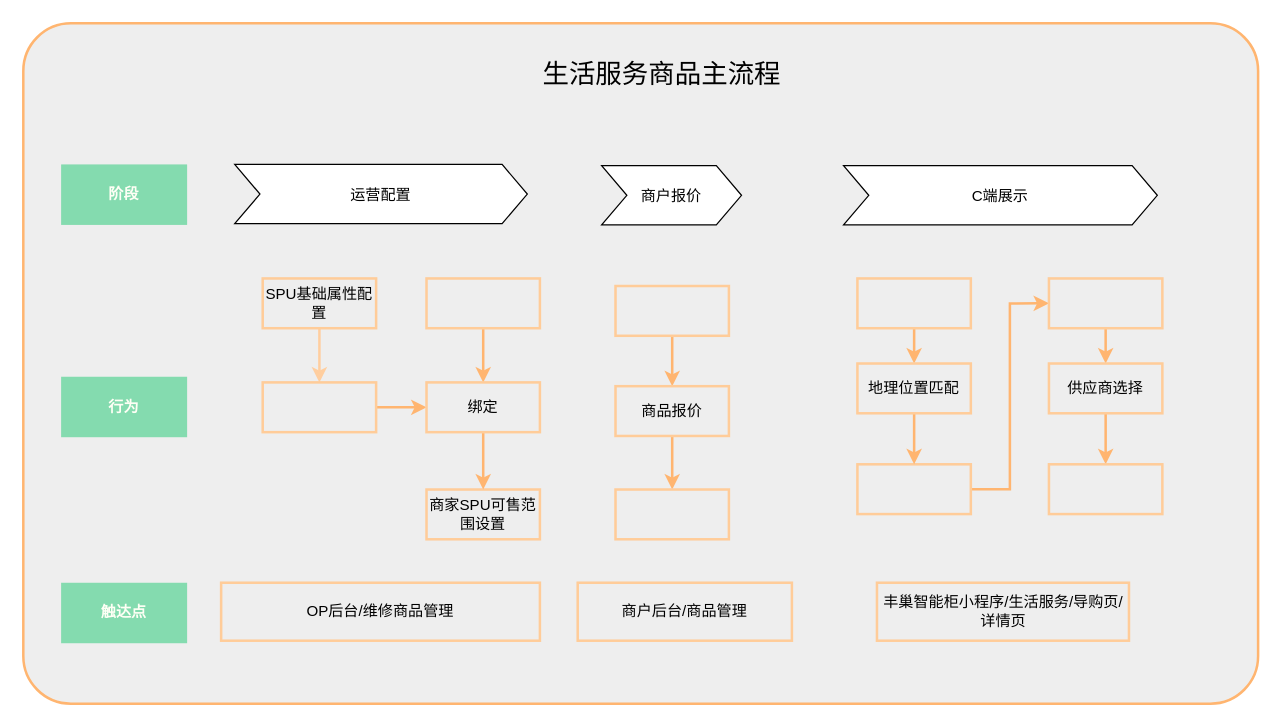
Image size: 1280x726. Some labels were removed from this diagram. Each missing label, with the centre of its shape:
"SKU展示" belongs at pixel 1105 488.
"sku配置" belongs at pixel 483 303.
"SPU列表" belongs at pixel 913 488.
"SPU服务费用配置" belongs at pixel 319 407.
"商家SKU报价范围设置" belongs at pixel 672 310.
"已报价" belongs at pixel 672 514.
"类目筛选" belongs at pixel 913 303.
"规格选择" belongs at pixel 1105 303.
